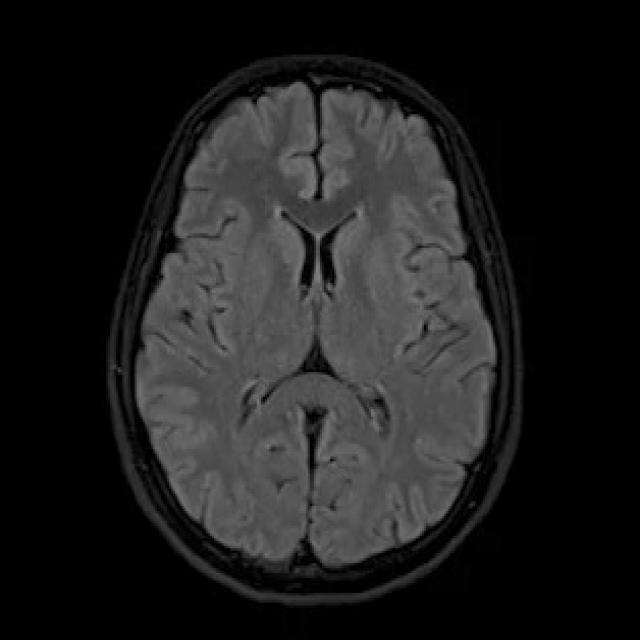No_Tumor: (108, 56, 521, 604)
